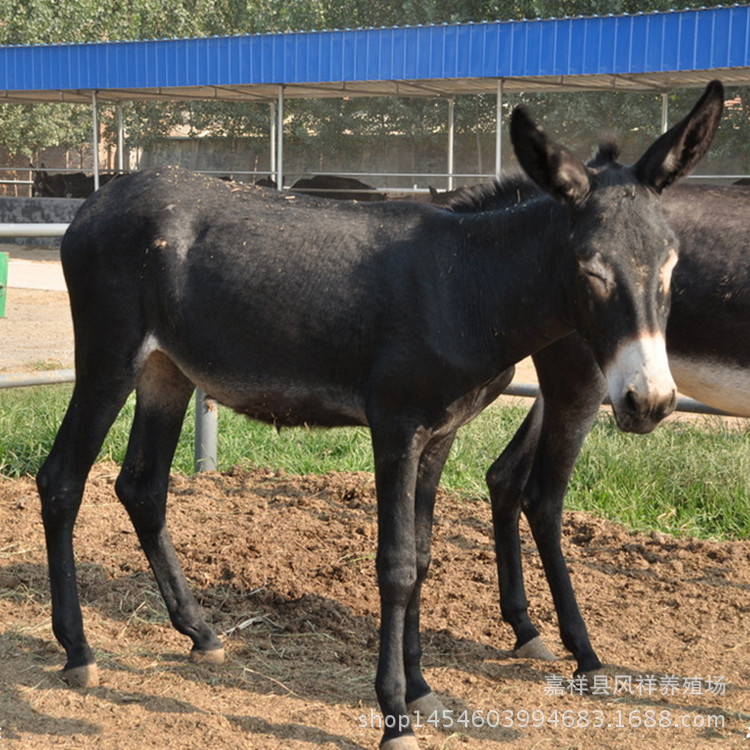background: (35, 91, 703, 720)
